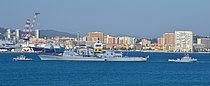MIL_Ship: (37, 43, 150, 62)
